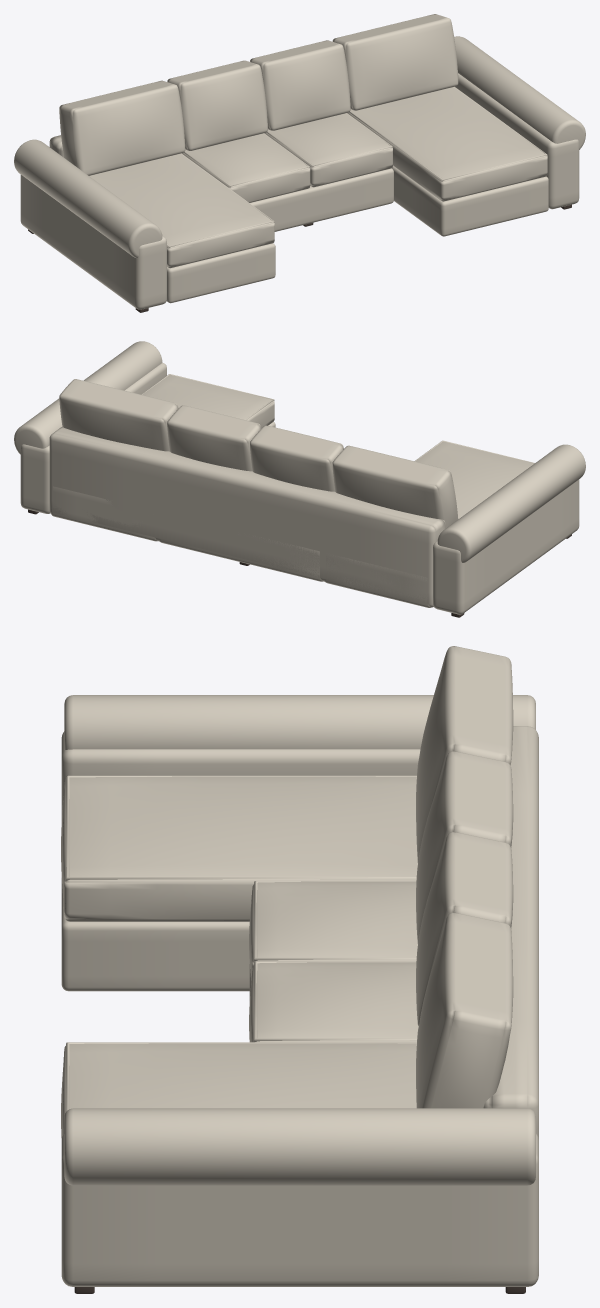
The model's file is couch.glb.
The picture shows the model from 3 angles, top to bottom: view 1: azimuth 30°, elevation 25°; view 2: azimuth 150°, elevation 25°; view 3: azimuth 270°, elevation 25°; orthographic projection. The views are drawn at different scales.
Visible parts, largest first — view 1: Chaise_R, Chaise_L, Back_0, Back_3, Arm_L_Body, Back_2, Back_1, Arm_L_Roll, Base_Chaise.001, Seat_1, Seat_0, Arm_R_Roll (+4 smaller); view 2: Back_Frame, Arm_L_Body, Back_0, Arm_L_Roll, Back_3, Back_2, Back_1, Chaise_L, Arm_R_Roll, Chaise_R, Base_Chaise, Arm_R_Body (+2 smaller); view 3: Arm_R_Body, Chaise_L, Arm_R_Roll, Chaise_R, Arm_L_Roll, Back_3, Base_Chaise, Seat_1, Seat_0, Back_Frame, Back_0, Arm_L_Body (+6 smaller).
Boxes of the visible parts, box(x1,y1,x2,y2) form: Chaise_R: box(347, 87, 547, 201); Chaise_L: box(89, 153, 274, 268); Back_0: box(59, 80, 185, 175); Back_3: box(332, 14, 458, 110); Arm_L_Body: box(20, 175, 166, 309); Back_2: box(250, 40, 350, 130); Back_1: box(167, 60, 267, 150); Arm_L_Roll: box(14, 139, 162, 257); Base_Chaise.001: box(392, 166, 548, 236); Seat_1: box(264, 113, 392, 187); Seat_0: box(182, 133, 310, 202); Arm_R_Roll: box(454, 36, 585, 149); Back_Frame: box(49, 427, 445, 607); Arm_L_Body: box(433, 479, 579, 614); Back_0: box(332, 445, 458, 528); Arm_L_Roll: box(437, 444, 585, 562); Back_3: box(59, 379, 178, 451); Back_2: box(167, 405, 261, 471); Back_1: box(250, 425, 343, 491); Chaise_L: box(415, 441, 534, 518); Arm_R_Roll: box(14, 341, 162, 454); Chaise_R: box(142, 374, 274, 428); Base_Chaise: box(324, 553, 430, 607); Arm_R_Body: box(20, 362, 166, 513); Arm_R_Body: box(61, 1134, 538, 1286); Chaise_L: box(61, 776, 417, 921); Arm_R_Roll: box(64, 1108, 535, 1185); Chaise_R: box(61, 1043, 416, 1138); Arm_L_Roll: box(64, 695, 535, 749); Back_3: box(416, 912, 513, 1108); Base_Chaise: box(61, 878, 249, 991); Seat_1: box(249, 962, 418, 1042); Seat_0: box(249, 881, 417, 980); Back_Frame: box(483, 726, 538, 1139); Back_0: box(416, 646, 513, 862); Arm_L_Body: box(61, 731, 420, 820).
Size of the model in its own units: 3.65 by 0.9739 by 1.65.
